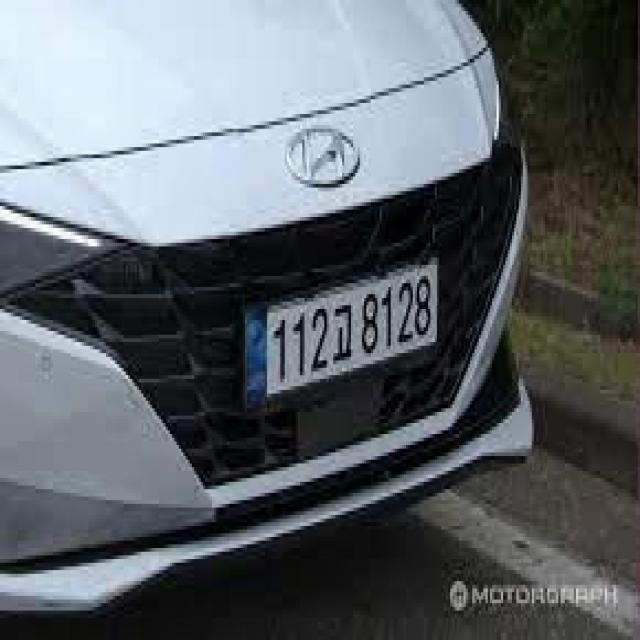illegal_plate: (244, 252, 441, 408)
